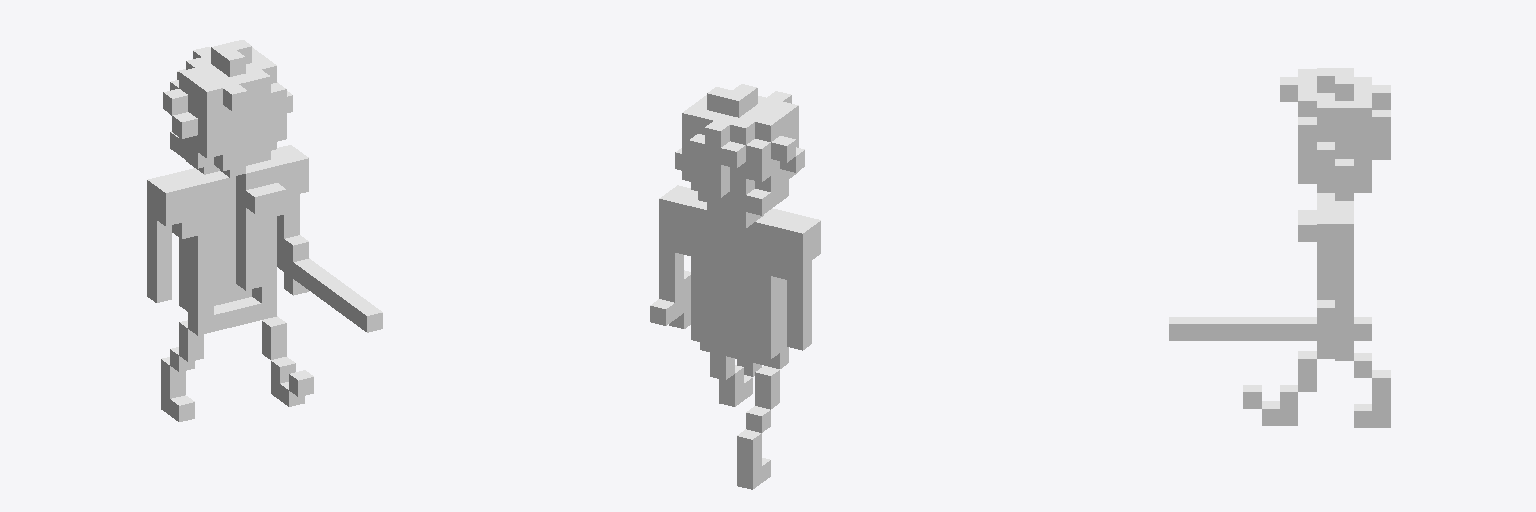
The model's file is SwingingBoyCharacter-1.obj.
The picture shows the model from 3 angles: view 1: azimuth 30°, elevation 25°; view 2: azimuth 150°, elevation 25°; view 3: azimuth 270°, elevation 25°; orthographic projection.
Parts seen in each view (by area): view 1: SwingingBoyCharacter-1; view 2: SwingingBoyCharacter-1; view 3: SwingingBoyCharacter-1.
Part boxes in pixels (x1,y1,x2,y2): SwingingBoyCharacter-1: (147,40,382,421); SwingingBoyCharacter-1: (650,84,820,489); SwingingBoyCharacter-1: (1169,68,1390,427).
Size of the model in its own units: 9 by 22 by 12.